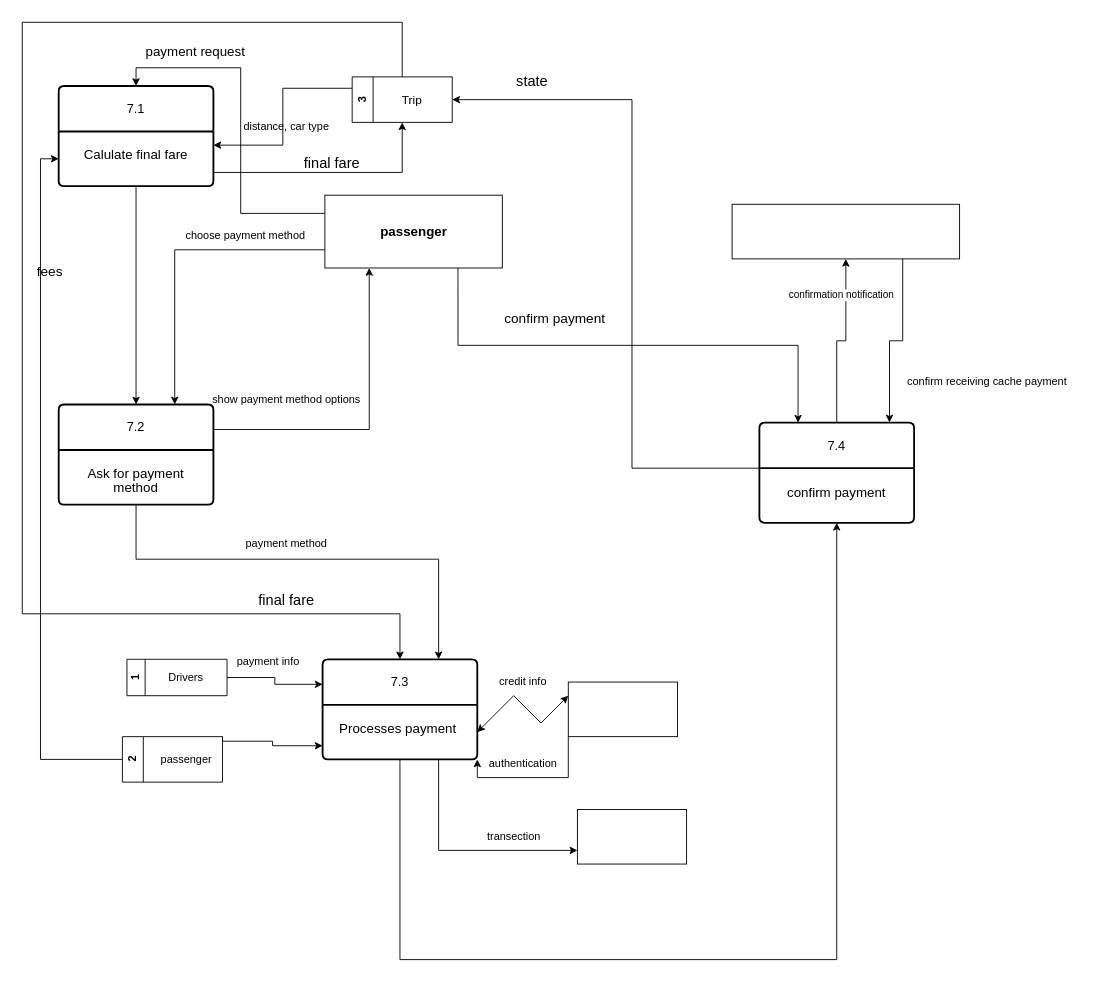
This 1094x983 diagram has some shape labels left out. The shapes that lost their labels are listed below. From the top down, each one's centre as x and y in pixels, then its label:
At point (845, 231): "Driver".
At point (622, 709): "credit system".
At point (631, 836): "Bank".
